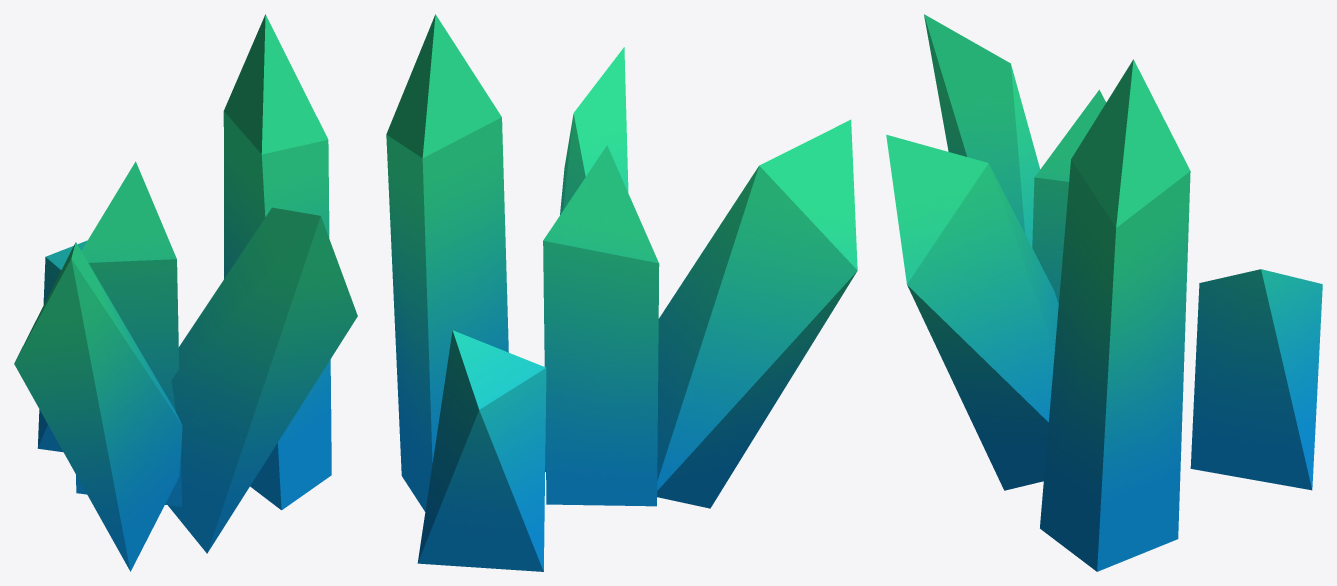
Rendered from crystal5.fbx.
3 renders of one model, left to right at view 1: azimuth 30°, elevation 25°; view 2: azimuth 150°, elevation 25°; view 3: azimuth 270°, elevation 25°, orthographic. The views are drawn at different scales.
Parts seen in each view (by area): view 1: cristal_5; view 2: cristal_5; view 3: cristal_5.
Part boxes in pixels (box(x1,y1,x2,y2)): cristal_5: box(14, 14, 357, 571); cristal_5: box(386, 14, 857, 571); cristal_5: box(886, 14, 1322, 571).
Bounding box in the file's own units: 0.3109 × 0.3648 × 0.2926.
Materials: 1 (1 with a texture image).
